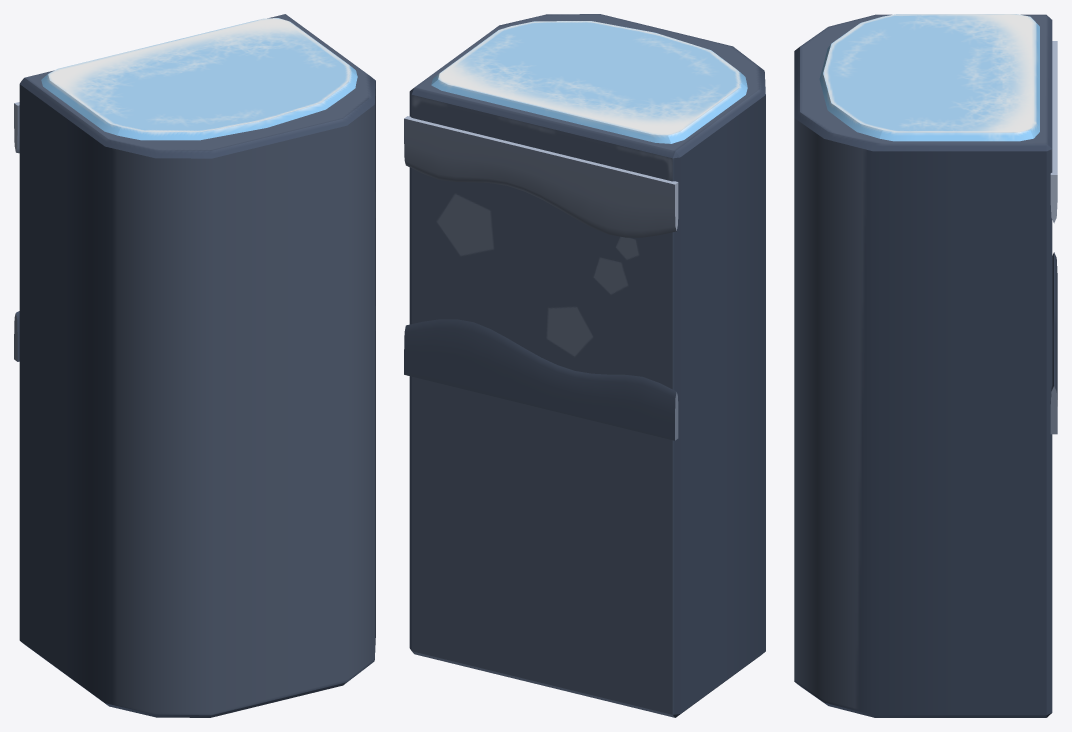
The model's file is S3_InF_Wall_002.fbx.
The picture shows the model from 3 angles, left to right: view 1: azimuth 30°, elevation 25°; view 2: azimuth 150°, elevation 25°; view 3: azimuth 270°, elevation 25°; orthographic projection.
Visible parts, largest first — view 1: wall16_pCube2; view 2: wall16_pCube2; view 3: wall16_pCube2.
Boxes of the visible parts, x1=… form: wall16_pCube2: x1=14, y1=14, x2=375, y2=717; wall16_pCube2: x1=404, y1=14, x2=765, y2=717; wall16_pCube2: x1=794, y1=14, x2=1057, y2=717.
Size of the model in its own units: 1 by 2.02 by 0.8313.
